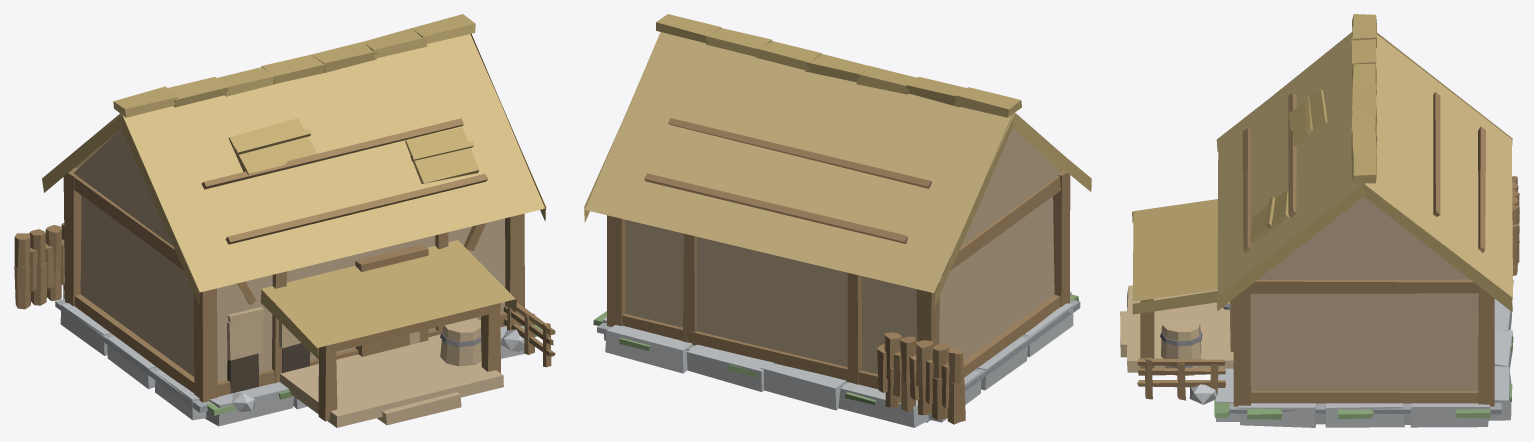
File: townhall_b.glb
3 views of the same model, side by side, from view 1: azimuth 30°, elevation 25°; view 2: azimuth 150°, elevation 25°; view 3: azimuth 270°, elevation 25° (orthographic). The views are drawn at different scales.
Visible parts, largest first — view 1: roof, walls, porch_roof, frame, porch_deck, ridge, roof_patch, plinth, roof_battens, gable, porch_frame, woodpile (+9 smaller); view 2: roof, walls, frame, plinth, ridge, woodpile, roof_battens, gable, roof_end, plinth_top, plinth_moss; view 3: roof, walls, frame, gable, porch_roof, plinth, roof_end, ridge, porch_deck, roof_battens, roof_patch, fence (+7 smaller).
Part boxes in pixels (x1,y1,x2,y2): roof: (74,34,546,292); walls: (80,195,505,382); porch_roof: (261,240,515,347); frame: (63,167,524,402); porch_deck: (280,334,503,427); ridge: (113,14,475,117); roof_patch: (228,118,478,183); plinth: (60,290,525,426); roof_battens: (201,118,488,244); gable: (74,129,173,246); porch_frame: (318,303,500,421); woodpile: (14,223,64,309); roof: (585,32,1086,292); walls: (625,196,1054,374); frame: (607,166,1070,389); plinth: (603,291,1073,427); ridge: (656,14,1021,117); woodpile: (877,332,965,424); roof_battens: (644,118,931,243); gable: (952,129,1061,253); roof_end: (584,85,1091,306); plinth_top: (597,300,1080,414); plinth_moss: (593,294,1078,405); roof: (1217,31,1513,299); walls: (1250,293,1478,403); frame: (1233,279,1494,406); gable: (1258,183,1469,279); porch_roof: (1132,199,1217,301); plinth: (1215,299,1512,427); roof_end: (1216,32,1512,312); ridge: (1351,14,1377,183); porch_deck: (1120,285,1233,372); roof_battens: (1242,92,1485,252); roof_patch: (1250,89,1327,244); fence: (1137,357,1225,400).
Size of the model in its own units: 4.56 by 3.2 by 4.42.
